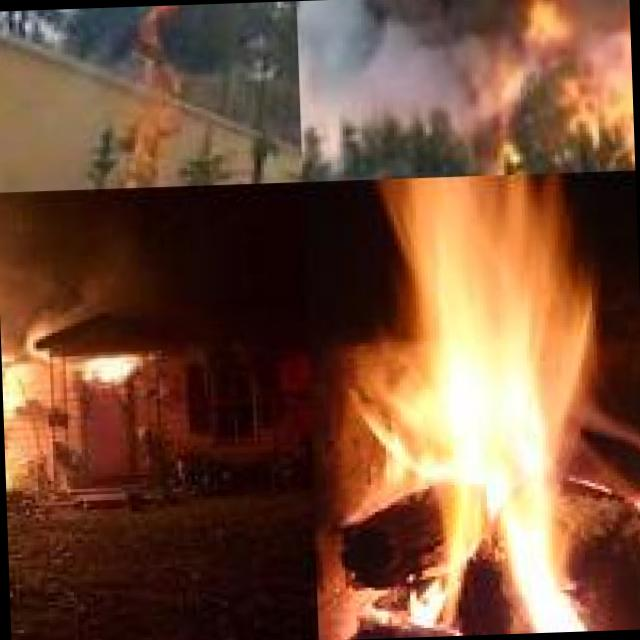fire: (328, 170, 640, 639), (110, 4, 206, 188), (499, 0, 603, 140), (0, 269, 37, 460), (82, 310, 160, 400), (5, 469, 23, 518)
smoke: (296, 0, 506, 154)
